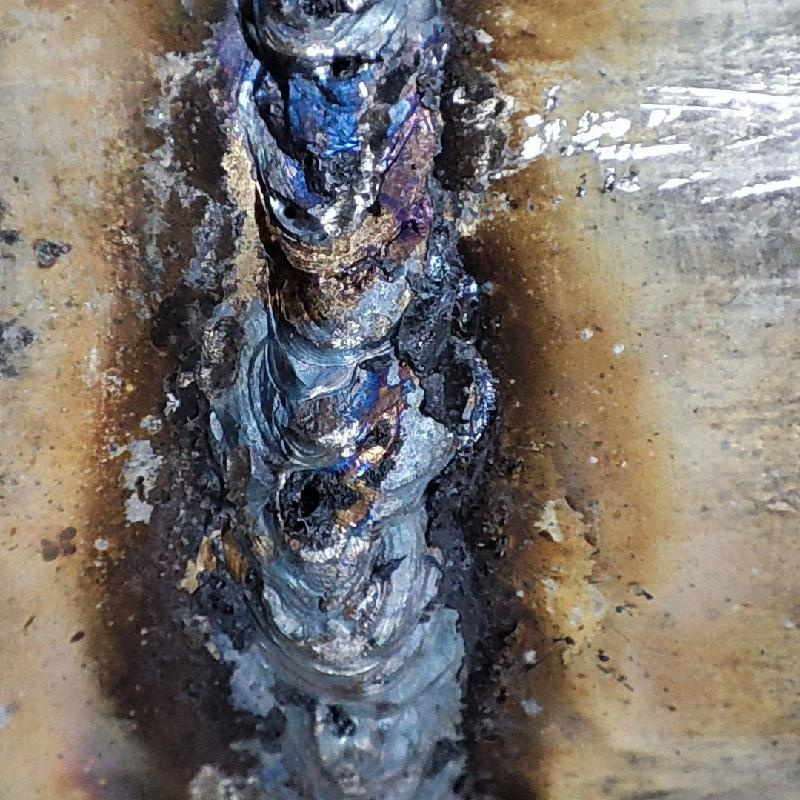Surface_pores: (277, 470, 350, 535), (308, 40, 378, 94), (271, 190, 325, 235), (356, 121, 402, 158)
